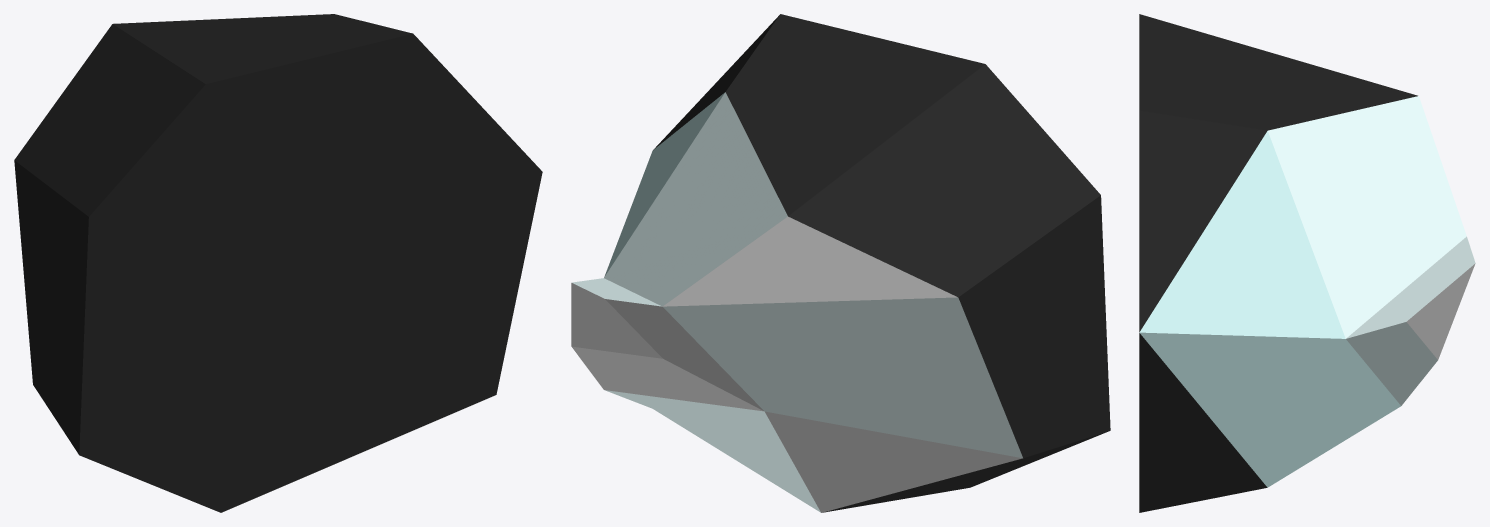
File: winter_snow_rock_2.fbx
The picture shows the model from 3 angles, left to right: view 1: azimuth 30°, elevation 25°; view 2: azimuth 150°, elevation 25°; view 3: azimuth 270°, elevation 25°; orthographic projection. The views are drawn at different scales.
Parts seen in each view (by area): view 1: Cylinder.001; view 2: Cylinder.001; view 3: Cylinder.001.
Part boxes in pixels (x1,y1,x2,y2): Cylinder.001: [14, 14, 542, 512]; Cylinder.001: [571, 14, 1110, 512]; Cylinder.001: [1139, 14, 1475, 512].
Size of the model in its own units: 59.95 by 53.46 by 39.52.
